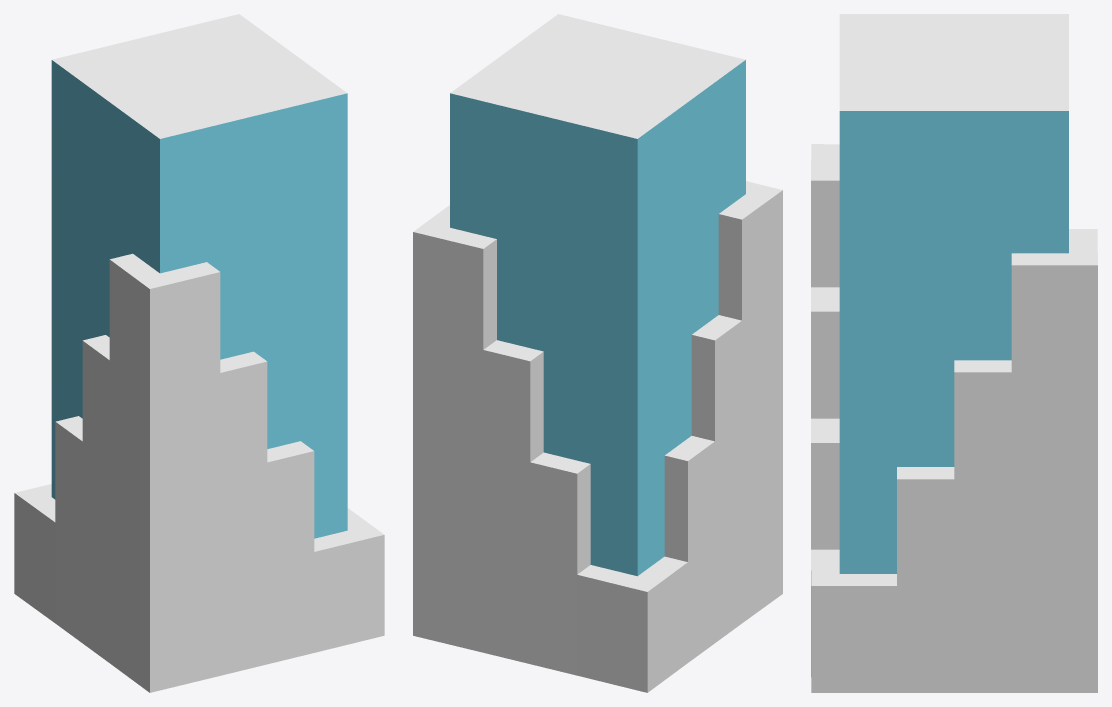
The model's file is Skyscraper_08.fbx.
3 views of the same model, side by side, from view 1: azimuth 30°, elevation 25°; view 2: azimuth 150°, elevation 25°; view 3: azimuth 270°, elevation 25° (orthographic). The views are drawn at different scales.
Visible parts, largest first — view 1: Building_23; view 2: Building_23; view 3: Building_23.
Part boxes in pixels (x1,y1,x2,y2): Building_23: (14,14,384,692); Building_23: (413,14,782,692); Building_23: (811,14,1097,692).
Bounding box in the file's own units: 3723 × 8161 × 3723.
